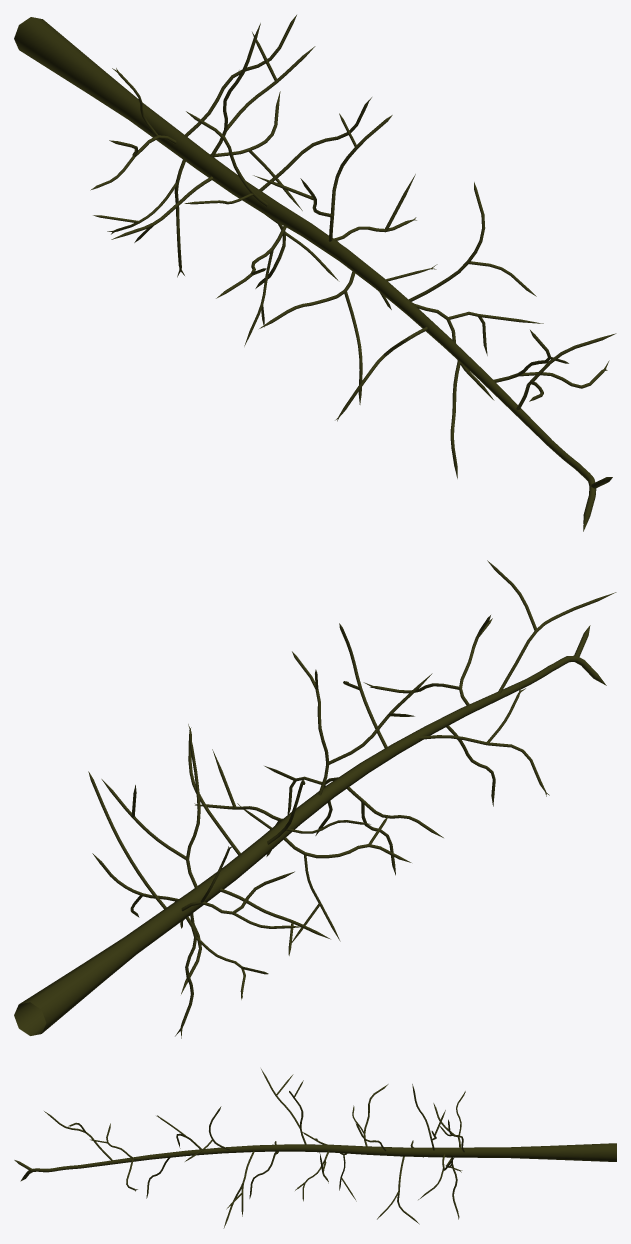
File: tree.obj
3 renders of one model, top to bottom at view 1: azimuth 30°, elevation 25°; view 2: azimuth 150°, elevation 25°; view 3: azimuth 270°, elevation 25°, orthographic. The views are drawn at different scales.
Parts seen in each view (by area): view 1: tree; view 2: tree; view 3: tree.
Part boxes in pixels (x1=…): tree: x1=14, y1=15, x2=616, y2=531; tree: x1=14, y1=560, x2=616, y2=1038; tree: x1=14, y1=1069, x2=616, y2=1228.
Bounding box in the file's own units: 0.6343 × 0.6673 × 2.52.
